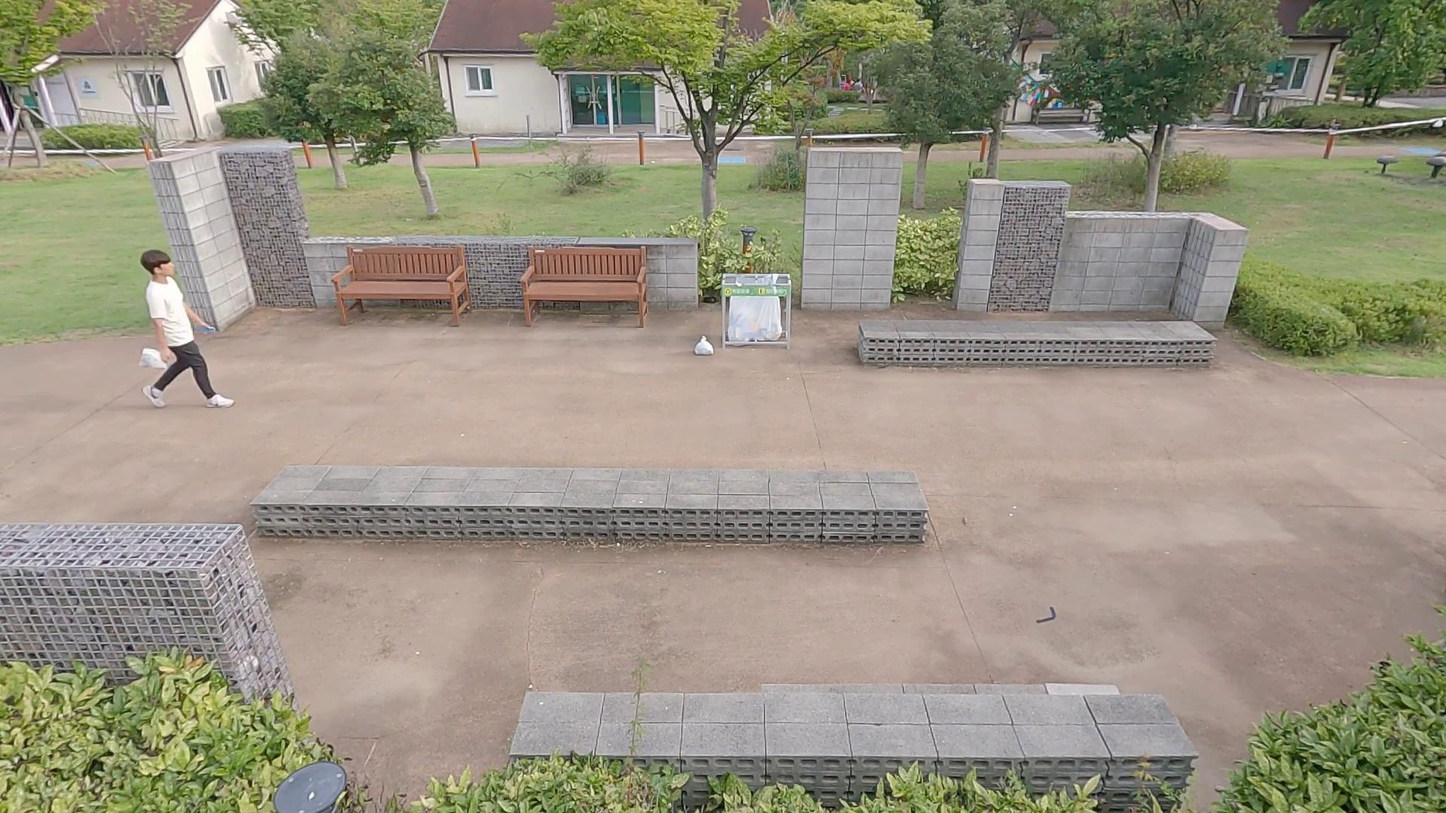person: (140, 250, 236, 410)
trash: (136, 348, 170, 369), (694, 333, 714, 357), (197, 324, 215, 336)
